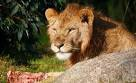lion: (41, 4, 134, 70)
